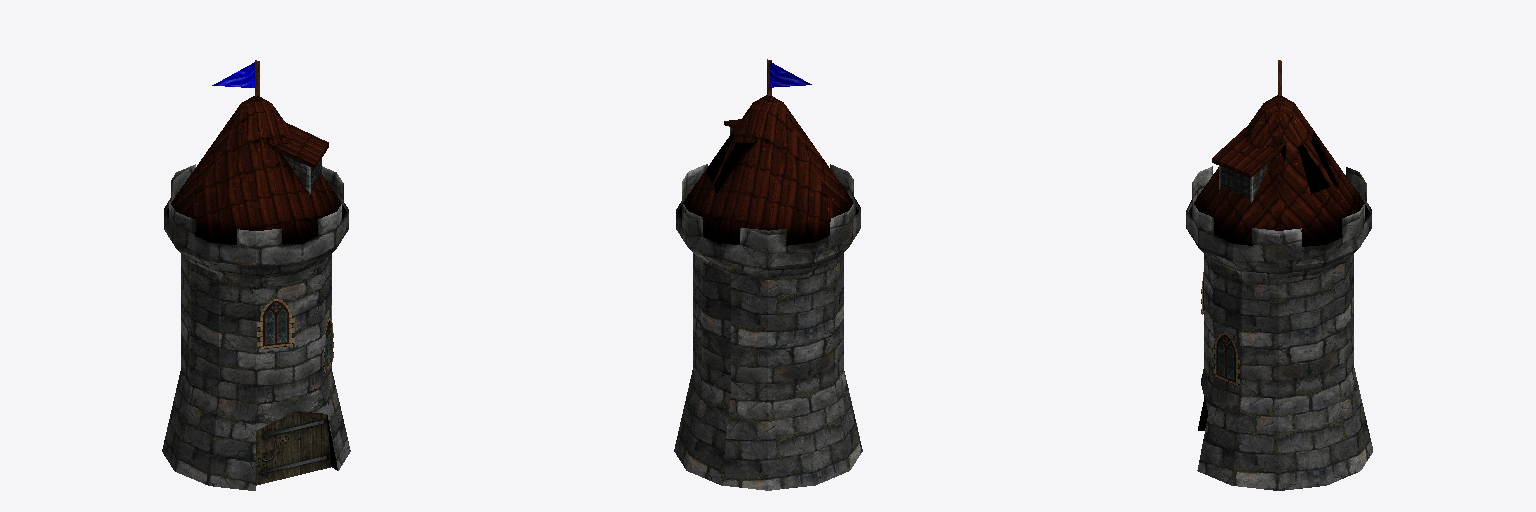
The picture shows the model from 3 angles: view 1: azimuth 30°, elevation 25°; view 2: azimuth 150°, elevation 25°; view 3: azimuth 270°, elevation 25°; orthographic projection.
Parts seen in each view (by area): view 1: Circle; view 2: Circle; view 3: Circle.
Boxes of the visible parts, box(x1,y1,x2,y2) form: Circle: box(162, 60, 350, 490); Circle: box(674, 59, 862, 490); Circle: box(1186, 60, 1372, 490).
Bounding box in the file's own units: 1.8 × 4.1 × 1.78.
Materials: 1 (1 with a texture image).